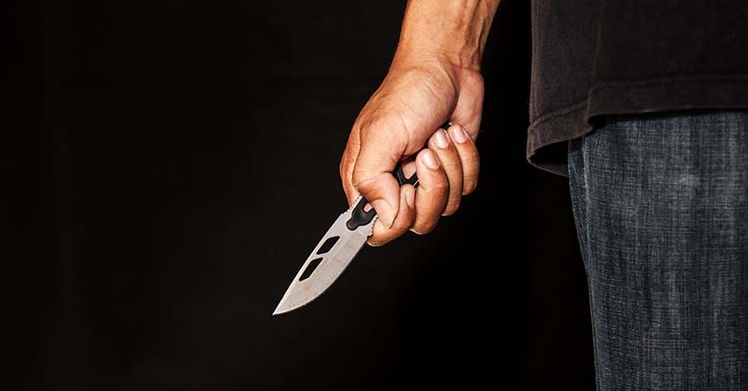knife: (271, 118, 458, 324)
